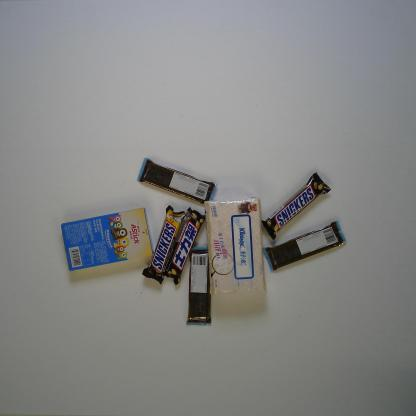Chocolate: (261, 172, 332, 240), (262, 220, 348, 271), (138, 157, 218, 207), (140, 203, 187, 285), (161, 206, 206, 284), (186, 244, 211, 327)
Dessert: (60, 206, 155, 272)
Tissue: (202, 197, 266, 294)
